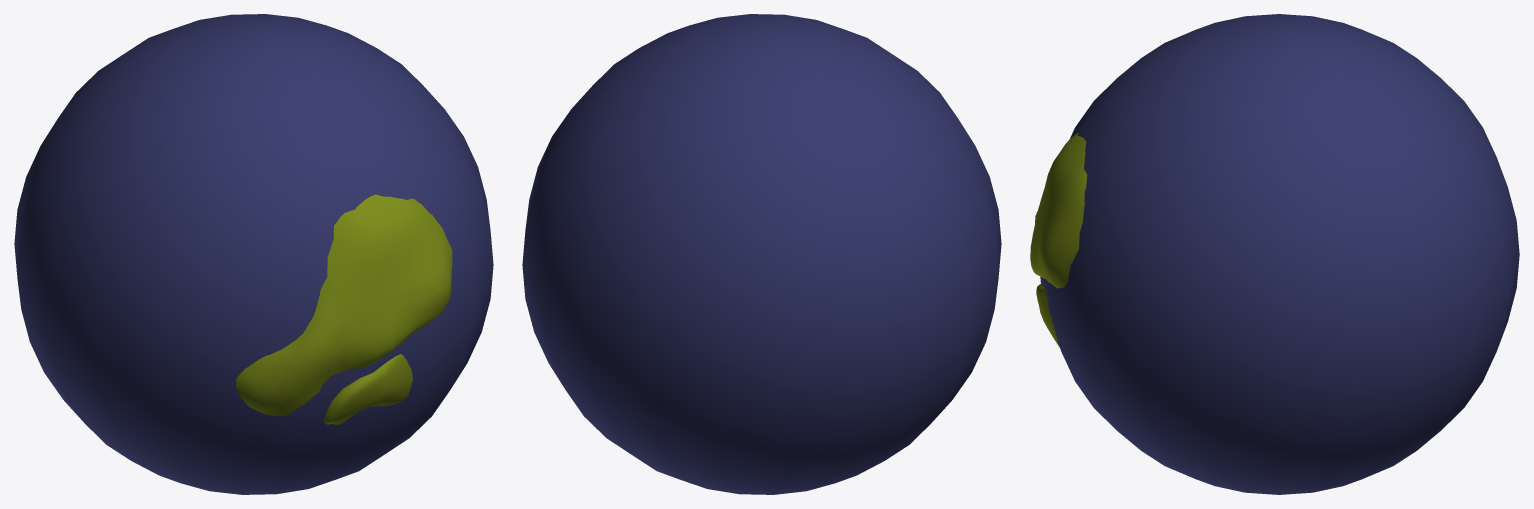
File: Planet v5.fbx
3 views of the same model, side by side, from view 1: azimuth 30°, elevation 25°; view 2: azimuth 150°, elevation 25°; view 3: azimuth 270°, elevation 25° (orthographic).
Visible parts, largest first — view 1: planet, Extract5; view 2: planet; view 3: planet, Extract5.
Boxes of the visible parts, bbox=[...] form: planet: bbox=[14, 14, 493, 494]; Extract5: bbox=[236, 194, 452, 424]; planet: bbox=[522, 14, 1001, 494]; planet: bbox=[1040, 14, 1519, 494]; Extract5: bbox=[1030, 132, 1087, 346].
Size of the model in its own units: 200 by 200 by 204.
